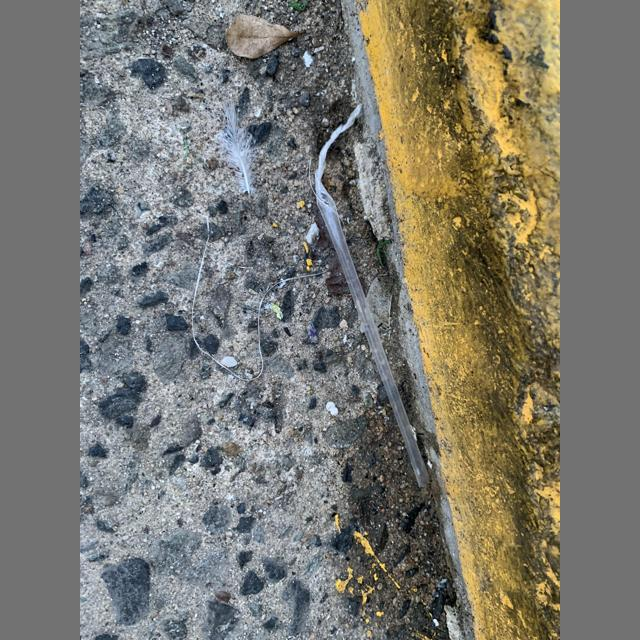litter: (314, 103, 429, 487)
